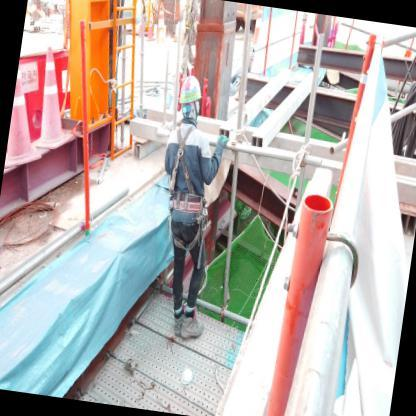safety-shoe: (178, 308, 208, 345), (168, 311, 190, 341)
